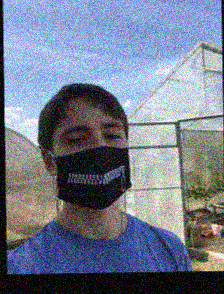with_mask: (50, 114, 132, 210)
